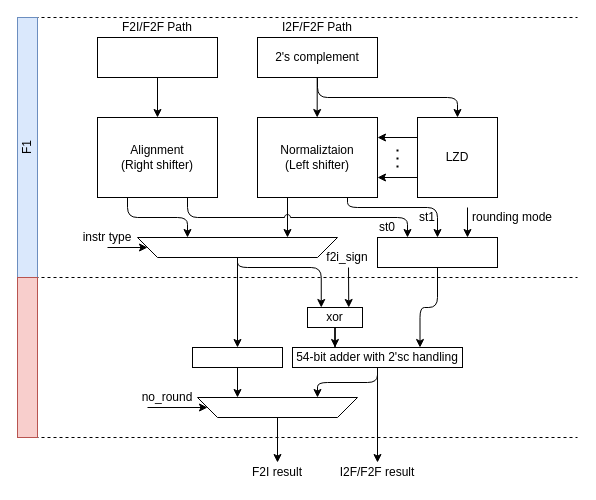
Image size: 596x500. Some labels were removed from this diagram. Here are the shapes that lost their labels. From the top down, the centre of each, then its label:
point 157,57: Shift amount
point 437,252: Round digit gen/ 2'sc inc gen
point 27,357: F2
point 237,357: 64-bit 2'sc
